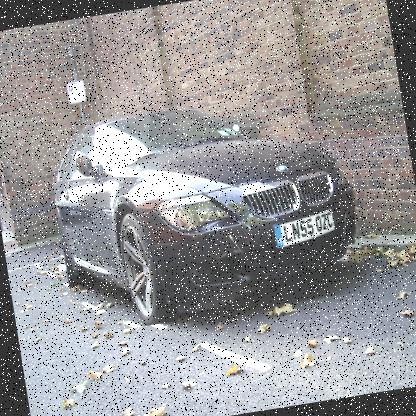Car: (44, 82, 368, 338)
